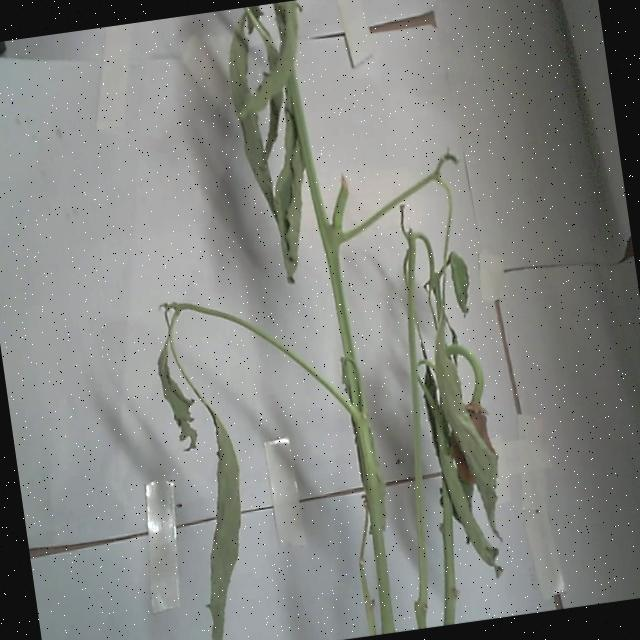Leaf: (176, 397, 263, 640), (219, 7, 293, 262), (264, 117, 321, 280), (149, 312, 202, 453)
